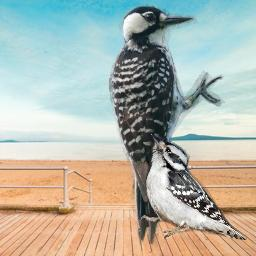Woodpecker: (106, 4, 227, 245), (137, 131, 247, 240)
